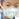with_mask: (2, 1, 19, 19)
